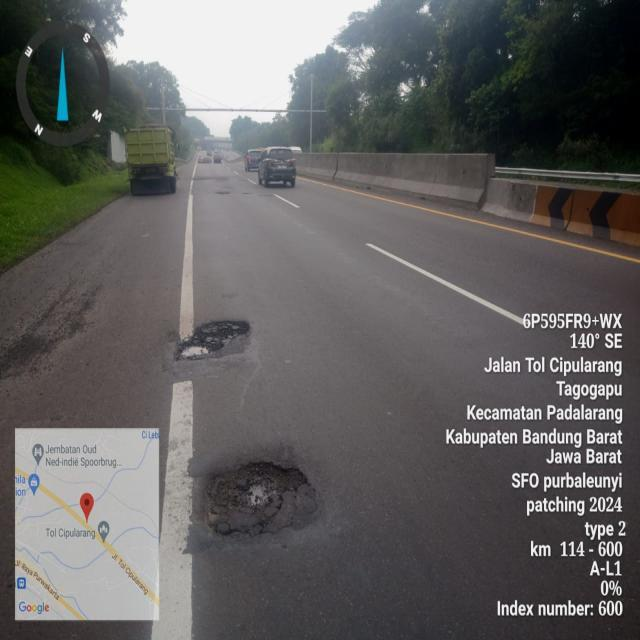Buraco: (200, 458, 312, 541), (172, 318, 252, 363), (212, 190, 234, 198)
